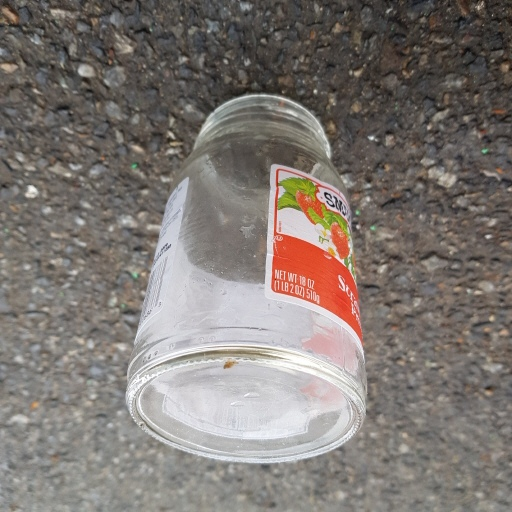Glass_5: (125, 90, 371, 466)
